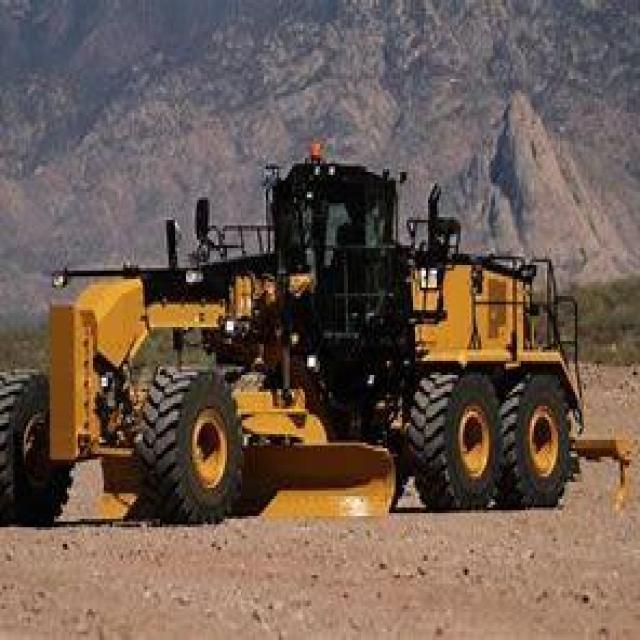Grader: (6, 144, 622, 541)
